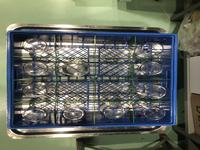Glass: (21, 103, 51, 122), (134, 82, 167, 99), (135, 103, 166, 121), (22, 38, 52, 55), (62, 60, 91, 77), (22, 83, 51, 99), (132, 62, 164, 76), (100, 102, 126, 119), (136, 42, 164, 57), (23, 62, 52, 76), (62, 104, 84, 120)
